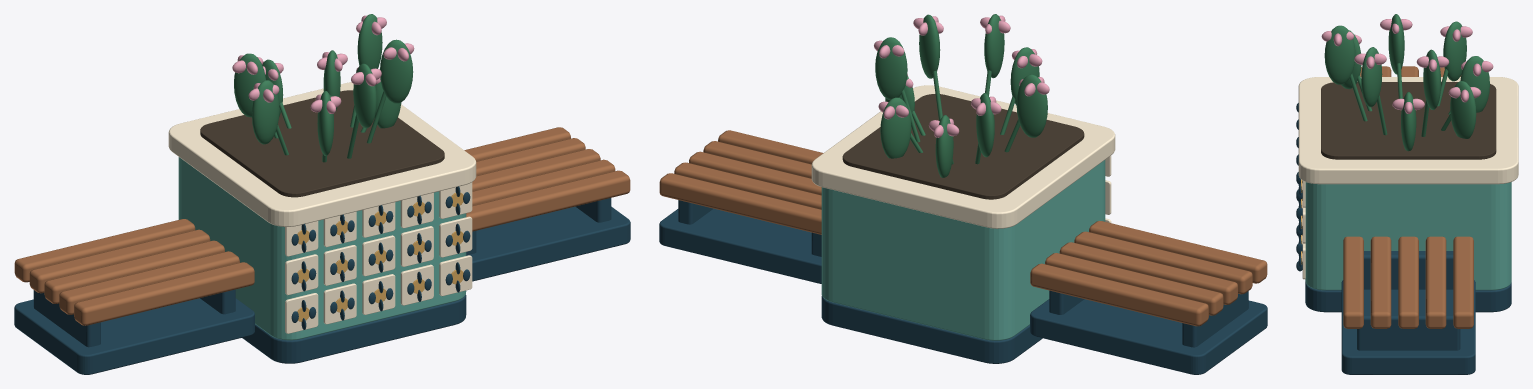
The picture shows the model from 3 angles, left to right: view 1: azimuth 30°, elevation 25°; view 2: azimuth 150°, elevation 25°; view 3: azimuth 270°, elevation 25°; orthographic projection. The views are drawn at different scales.
Parts seen in each view (by area): view 1: Jurong | Tile Planter Bench - Cabinetry, Jurong | Tile Planter Bench - Structure, Jurong | Tile Planter Bench - Sculpture, Jurong | Tile Planter Bench - Graphics, Jurong | Tile Planter Bench - Decoration, Jurong | Tile Planter Bench - Metalwork; view 2: Jurong | Tile Planter Bench - Cabinetry, Jurong | Tile Planter Bench - Structure, Jurong | Tile Planter Bench - Sculpture, Jurong | Tile Planter Bench - Metalwork; view 3: Jurong | Tile Planter Bench - Cabinetry, Jurong | Tile Planter Bench - Structure, Jurong | Tile Planter Bench - Sculpture, Jurong | Tile Planter Bench - Metalwork, Jurong | Tile Planter Bench - Graphics.
Part boxes in pixels (<box>): Jurong | Tile Planter Bench - Cabinetry: <box>14,82,630,374</box>; Jurong | Tile Planter Bench - Structure: <box>14,127,630,347</box>; Jurong | Tile Planter Bench - Sculpture: <box>232,14,470,329</box>; Jurong | Tile Planter Bench - Graphics: <box>285,182,472,333</box>; Jurong | Tile Planter Bench - Decoration: <box>297,192,463,321</box>; Jurong | Tile Planter Bench - Metalwork: <box>274,91,386,162</box>; Jurong | Tile Planter Bench - Cabinetry: <box>659,85,1267,374</box>; Jurong | Tile Planter Bench - Structure: <box>659,130,1267,347</box>; Jurong | Tile Planter Bench - Sculpture: <box>874,14,1049,177</box>; Jurong | Tile Planter Bench - Metalwork: <box>901,70,1020,164</box>; Jurong | Tile Planter Bench - Cabinetry: <box>1298,77,1518,374</box>; Jurong | Tile Planter Bench - Structure: <box>1343,66,1473,350</box>; Jurong | Tile Planter Bench - Sculpture: <box>1296,14,1493,271</box>; Jurong | Tile Planter Bench - Metalwork: <box>1349,63,1451,136</box>; Jurong | Tile Planter Bench - Graphics: <box>1302,181,1305,279</box>.
Bounding box in the file's own units: 3.44 × 1.58 × 1.29.
